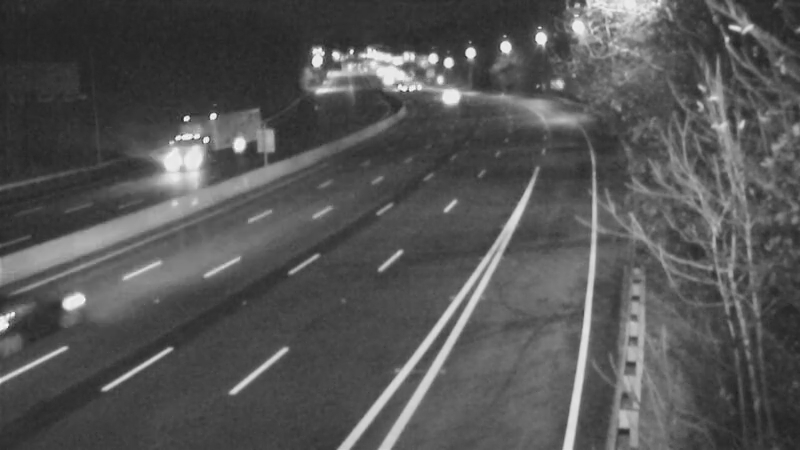vehicle: (158, 118, 238, 198), (388, 57, 438, 107), (423, 69, 473, 119)
